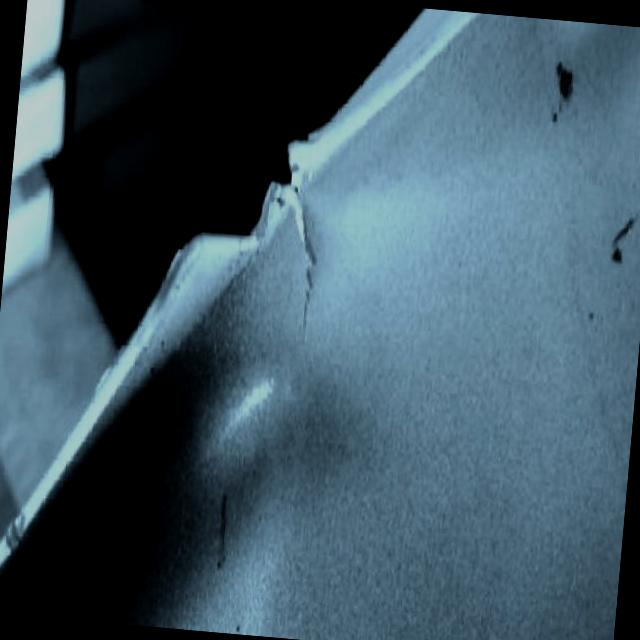crack: (282, 196, 320, 338)
